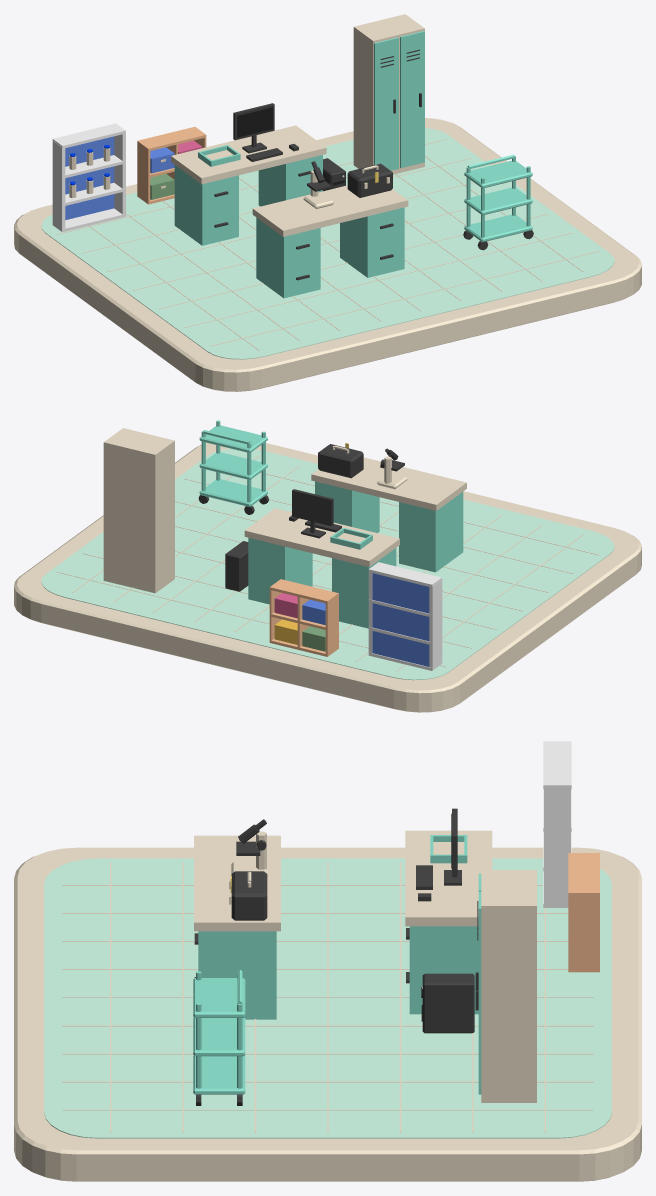
3 views of the same model, one above another, from view 1: azimuth 30°, elevation 25°; view 2: azimuth 150°, elevation 25°; view 3: azimuth 270°, elevation 25° (orthographic). The views are drawn at different scales.
Parts seen in each view (by area): view 1: COM-02 Floor Surface, COM-01 Rounded Base Direct, Case.001, Worktop, Storage module.002, Storage module, Worktop.001, Storage module.001, Door.001, Door, Cabinet back, Storage module.003 (+16 smaller); view 2: COM-02 Floor Surface, COM-01 Rounded Base Direct, Case.001, Cabinet back, Storage module, Worktop.001, Worktop, Storage module.003, Storage module.002, Storage module.001, Frame, Case (+12 smaller); view 3: COM-02 Floor Surface, COM-01 Rounded Base Direct, Case.001, Worktop.001, Worktop, Storage module.001, Storage module.003, Tower, Clean supply cabinet side.001, Cubbies divider.002, Tray.002, Case (+11 smaller).
Boxes of the visible parts, bbox=[...] form: COM-02 Floor Surface: bbox=[41, 128, 614, 359]; COM-01 Rounded Base Direct: bbox=[14, 118, 641, 391]; Case.001: bbox=[353, 14, 424, 174]; Worktop: bbox=[252, 185, 408, 236]; Storage module.002: bbox=[174, 165, 238, 245]; Storage module: bbox=[256, 217, 320, 298]; Worktop.001: bbox=[171, 125, 326, 184]; Storage module.001: bbox=[340, 207, 404, 277]; Door.001: bbox=[400, 31, 424, 168]; Door: bbox=[374, 37, 398, 170]; Cabinet back: bbox=[65, 136, 114, 220]; Storage module.003: bbox=[258, 155, 322, 206]; COM-02 Floor Surface: bbox=[41, 448, 614, 680]; COM-01 Rounded Base Direct: bbox=[14, 442, 641, 712]; Case.001: bbox=[103, 428, 174, 593]; Cabinet back: bbox=[372, 573, 429, 666]; Storage module: bbox=[399, 492, 463, 572]; Worktop.001: bbox=[244, 508, 399, 566]; Worktop: bbox=[311, 457, 466, 510]; Storage module.003: bbox=[248, 537, 312, 604]; Storage module.002: bbox=[332, 548, 396, 628]; Storage module.001: bbox=[315, 481, 379, 532]; Frame: bbox=[292, 489, 333, 538]; Case: bbox=[318, 444, 363, 478]; COM-02 Floor Surface: bbox=[44, 858, 611, 1138]; COM-01 Rounded Base Direct: bbox=[14, 847, 641, 1181]; Case.001: bbox=[481, 870, 536, 1102]; Worktop.001: bbox=[405, 830, 492, 926]; Worktop: bbox=[194, 835, 280, 931]; Storage module.001: bbox=[198, 931, 276, 1019]; Storage module.003: bbox=[409, 926, 478, 1014]; Tower: bbox=[422, 973, 474, 1033]; Clean supply cabinet side.001: bbox=[544, 787, 570, 907]; Cubbies divider.002: bbox=[568, 893, 599, 972]; Tray.002: bbox=[193, 978, 245, 1017]; Case: bbox=[231, 871, 267, 920].
Bounding box in the file's own units: 6 × 2.1 × 5.2.
1 material, 1 textured.
